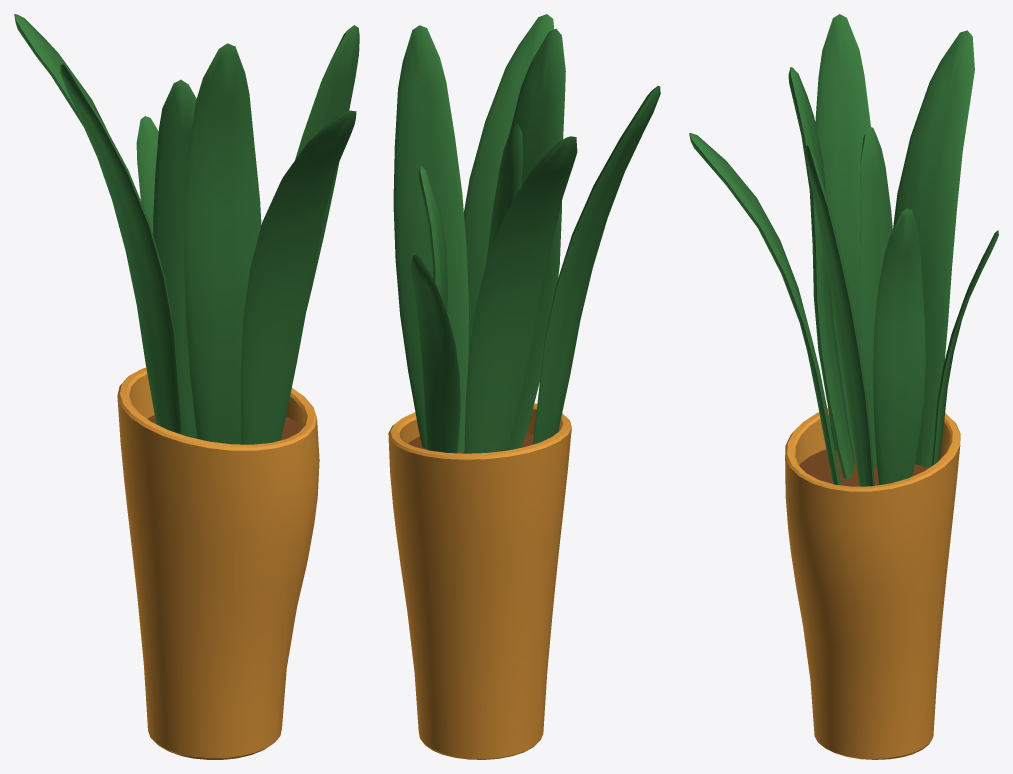
File: pot_plant_02.glb
3 views of the same model, side by side, from view 1: azimuth 30°, elevation 25°; view 2: azimuth 150°, elevation 25°; view 3: azimuth 270°, elevation 25° (orthographic). The views are drawn at different scales.
Visible parts, largest first — view 1: Plant3; view 2: Plant3; view 3: Plant3.
Part boxes in pixels (x1=…): Plant3: x1=14, y1=14, x2=359, y2=759; Plant3: x1=388, y1=14, x2=660, y2=759; Plant3: x1=689, y1=14, x2=998, y2=759.
Bounding box in the file's own units: 0.6745 × 1.65 × 0.708.
Materials: 3 (2 with a texture image).
